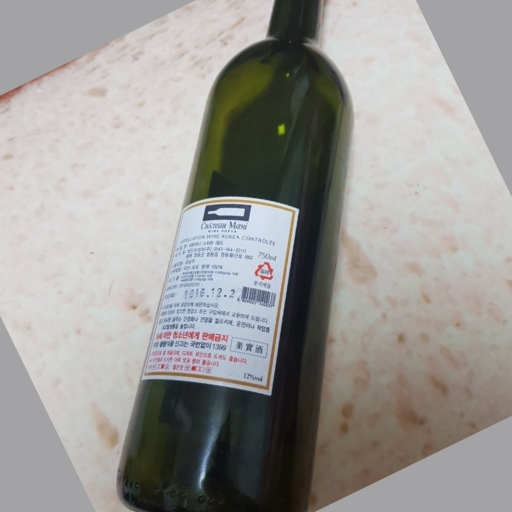Glass_2: (119, 1, 359, 512)
